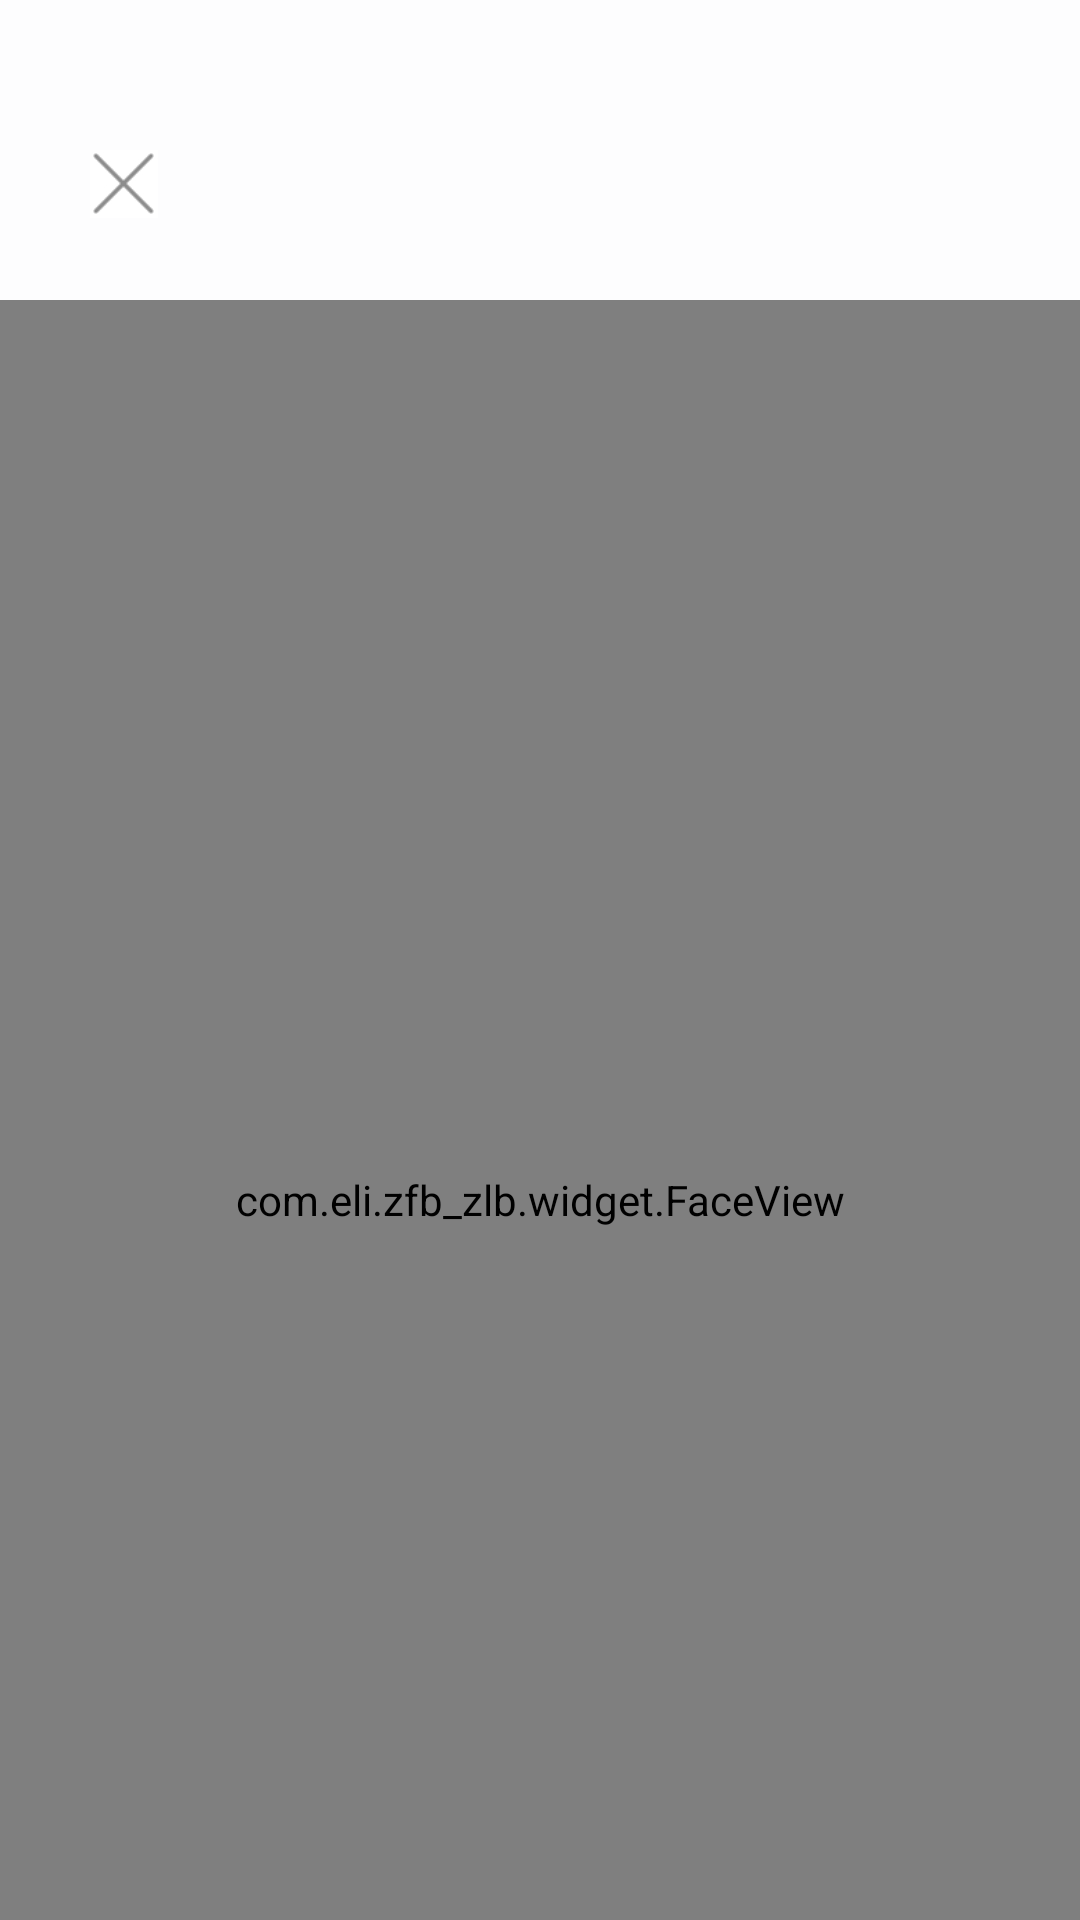

Icon bounding boxes for this 1080×1920 phone screenshot, format (x1, y1, x2, y2):
close: (93, 153, 154, 214)
